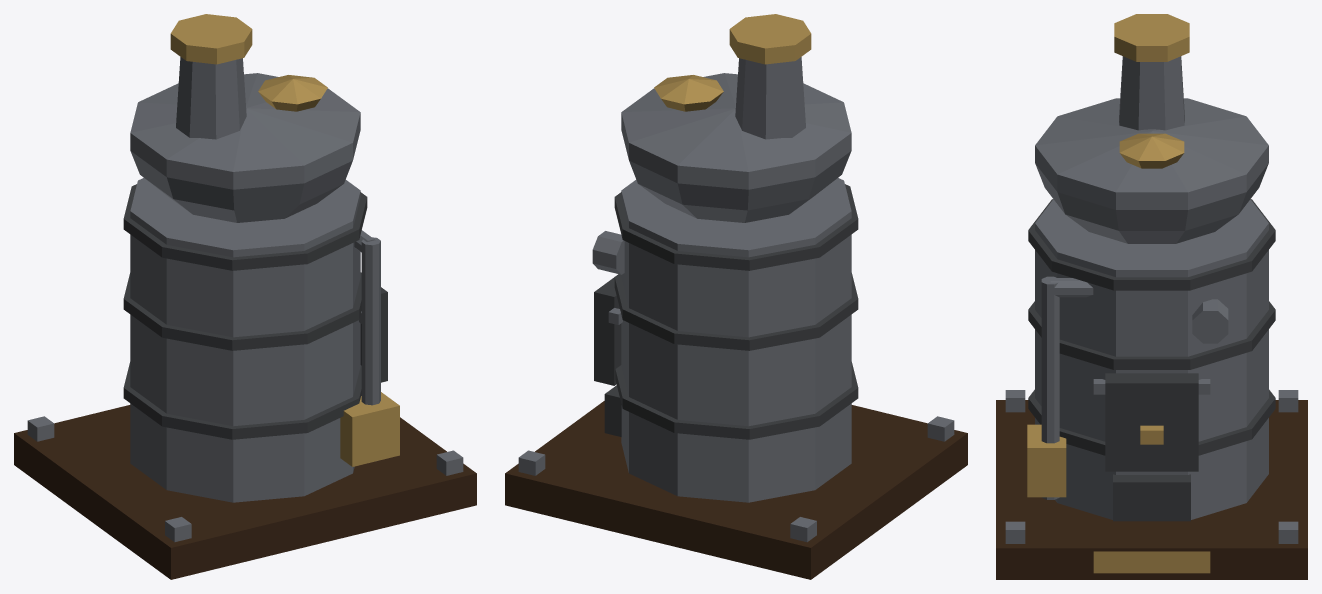
Rendered from SN_Boiler_Efficient.glb.
3 views of the same model, side by side, from view 1: azimuth 30°, elevation 25°; view 2: azimuth 150°, elevation 25°; view 3: azimuth 270°, elevation 25° (orthographic).
Visible parts, largest first — view 1: SN_Boiler_Efficient; view 2: SN_Boiler_Efficient; view 3: SN_Boiler_Efficient.
Boxes of the visible parts, box(x1,y1,x2,y2) form: SN_Boiler_Efficient: box(14, 14, 476, 579); SN_Boiler_Efficient: box(505, 14, 967, 579); SN_Boiler_Efficient: box(996, 14, 1307, 579).
Size of the model in its own units: 1.8 by 2.6 by 1.6.
